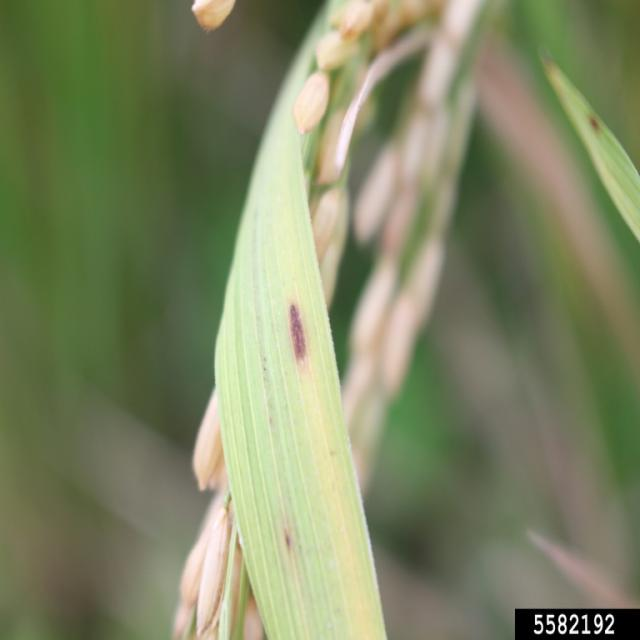Brown spot: (269, 297, 322, 390), (272, 519, 296, 567), (580, 106, 608, 145)
